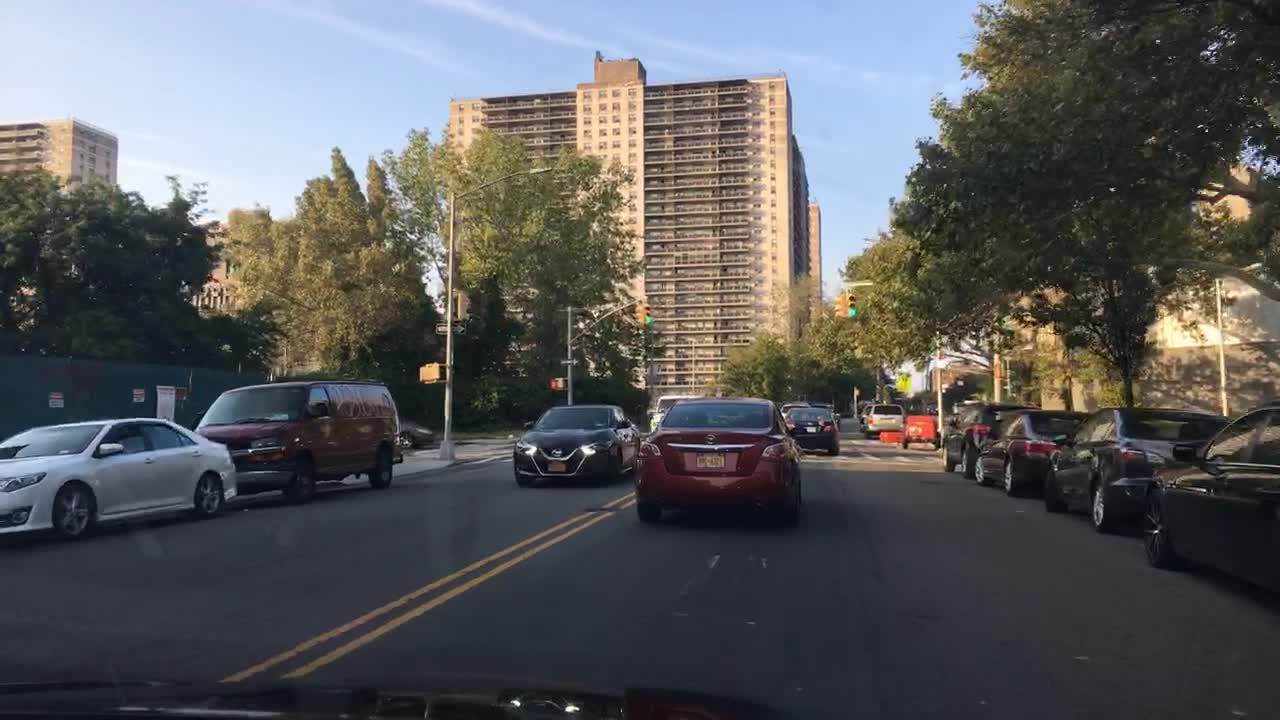car: (0, 413, 238, 545), (1135, 398, 1278, 613), (192, 377, 404, 505), (1044, 403, 1233, 535), (637, 395, 803, 535), (514, 401, 641, 491), (973, 408, 1090, 493), (941, 404, 1043, 480), (646, 390, 713, 439), (785, 408, 842, 456), (863, 404, 909, 440), (392, 416, 436, 448), (901, 415, 940, 450), (811, 400, 840, 430), (856, 403, 884, 431), (775, 401, 808, 420), (853, 400, 873, 414)
traffic light: (418, 364, 444, 383), (451, 291, 468, 314), (833, 291, 846, 319), (847, 289, 859, 318), (547, 377, 566, 391), (644, 301, 653, 326), (637, 300, 645, 326)
traffic sign: (435, 322, 465, 335), (897, 369, 911, 393)
